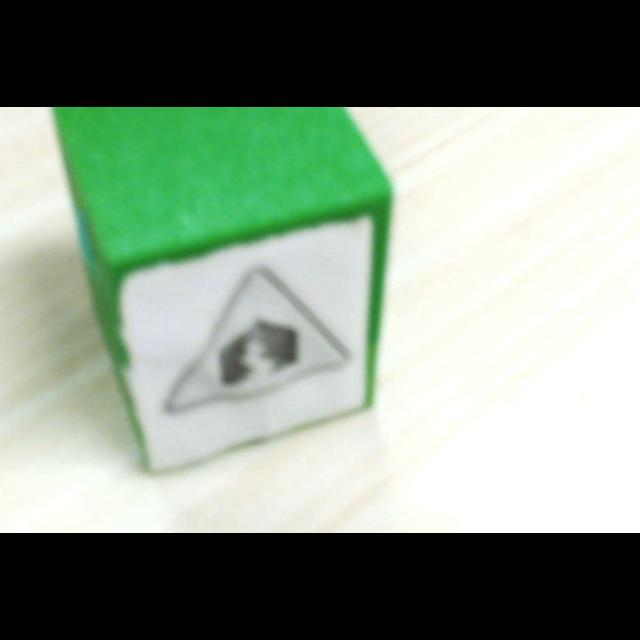Earthquake: (165, 267, 350, 413)
